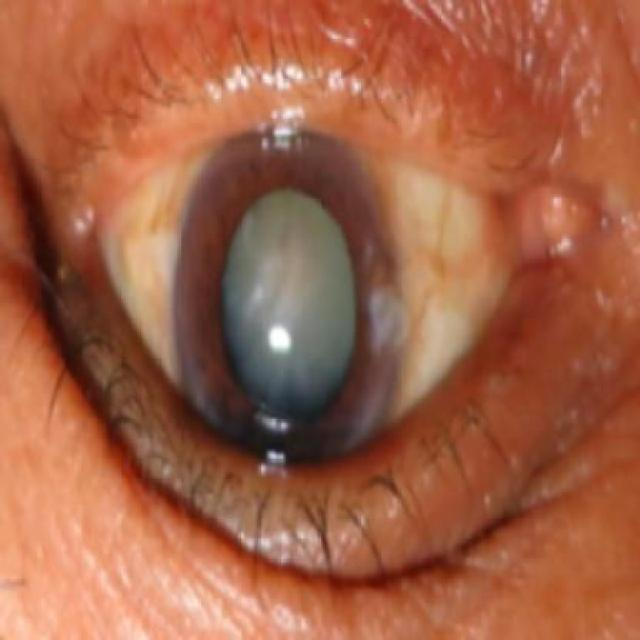Cataract: (174, 120, 406, 477)
